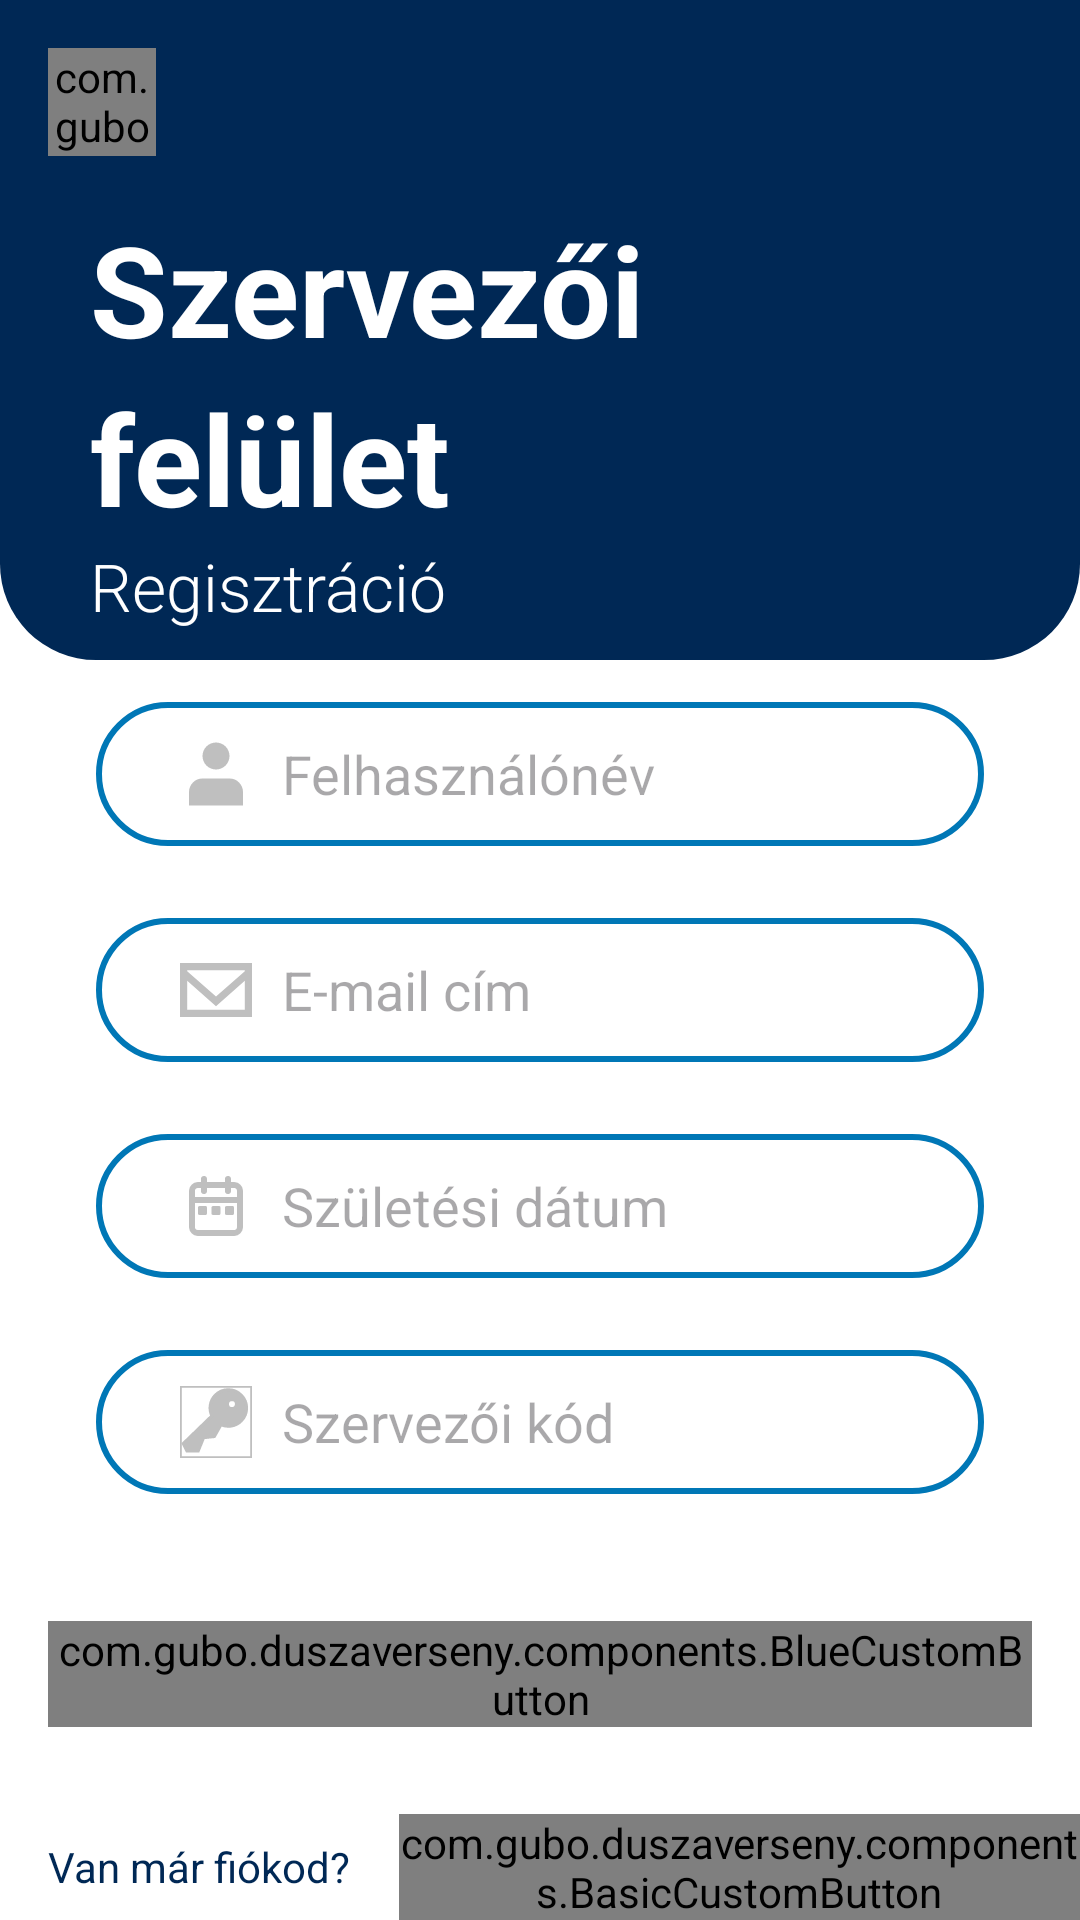

Icons on this 1080px x 1920px Android screen, each with its box as (x1, y1, x2, y2):
admin: (180, 1386, 252, 1458)
date: (189, 1176, 243, 1236)
user: (189, 742, 243, 806)
